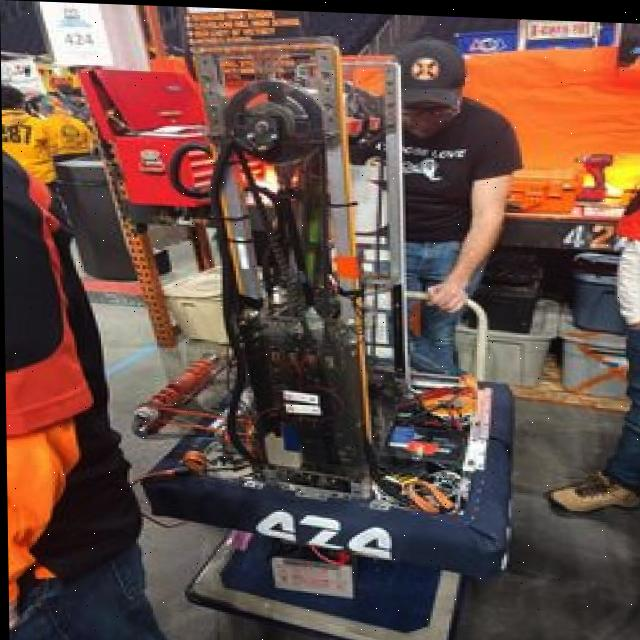robot: (124, 23, 519, 582)
